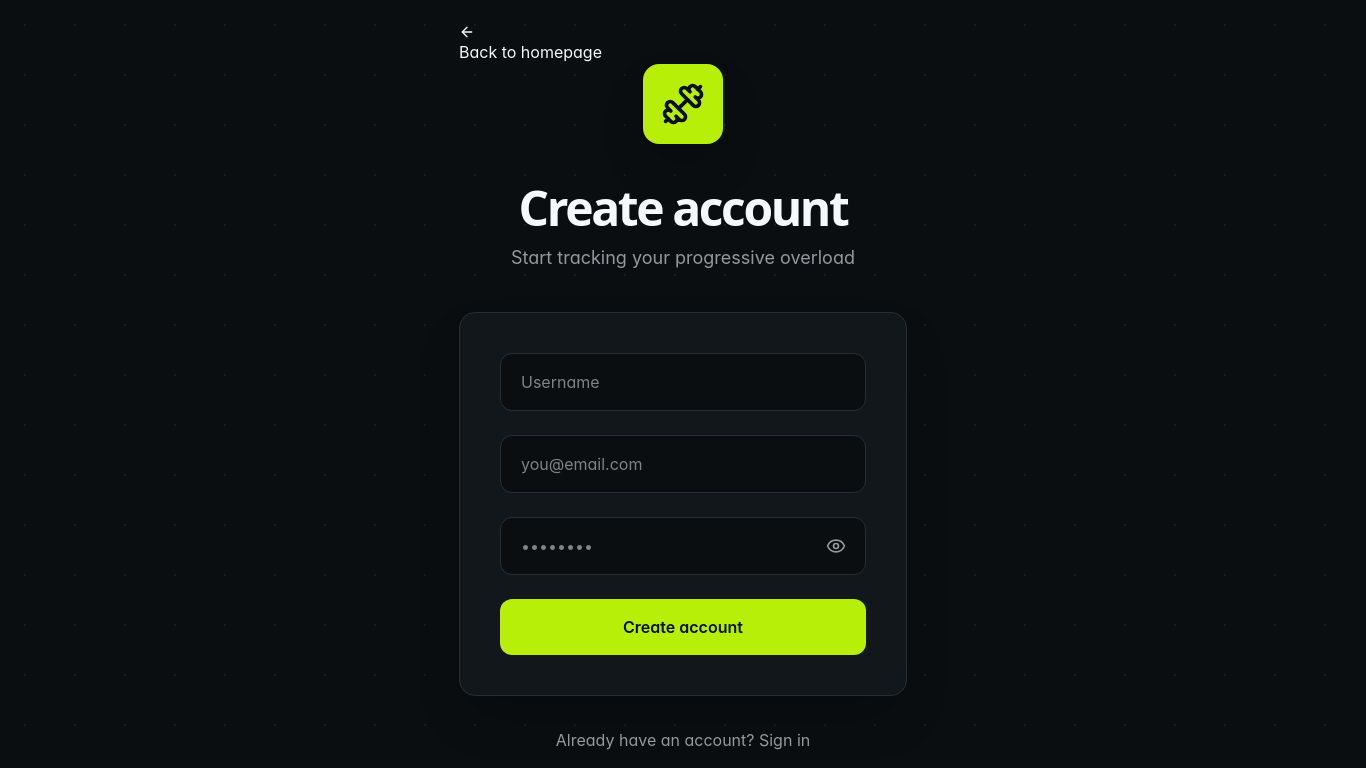
Scenario: Register Page › handles registration error
Type "john" into the field with placeholder "Username".
click(683, 382); type("john")  # box left=500, top=353, right=866, bottom=411
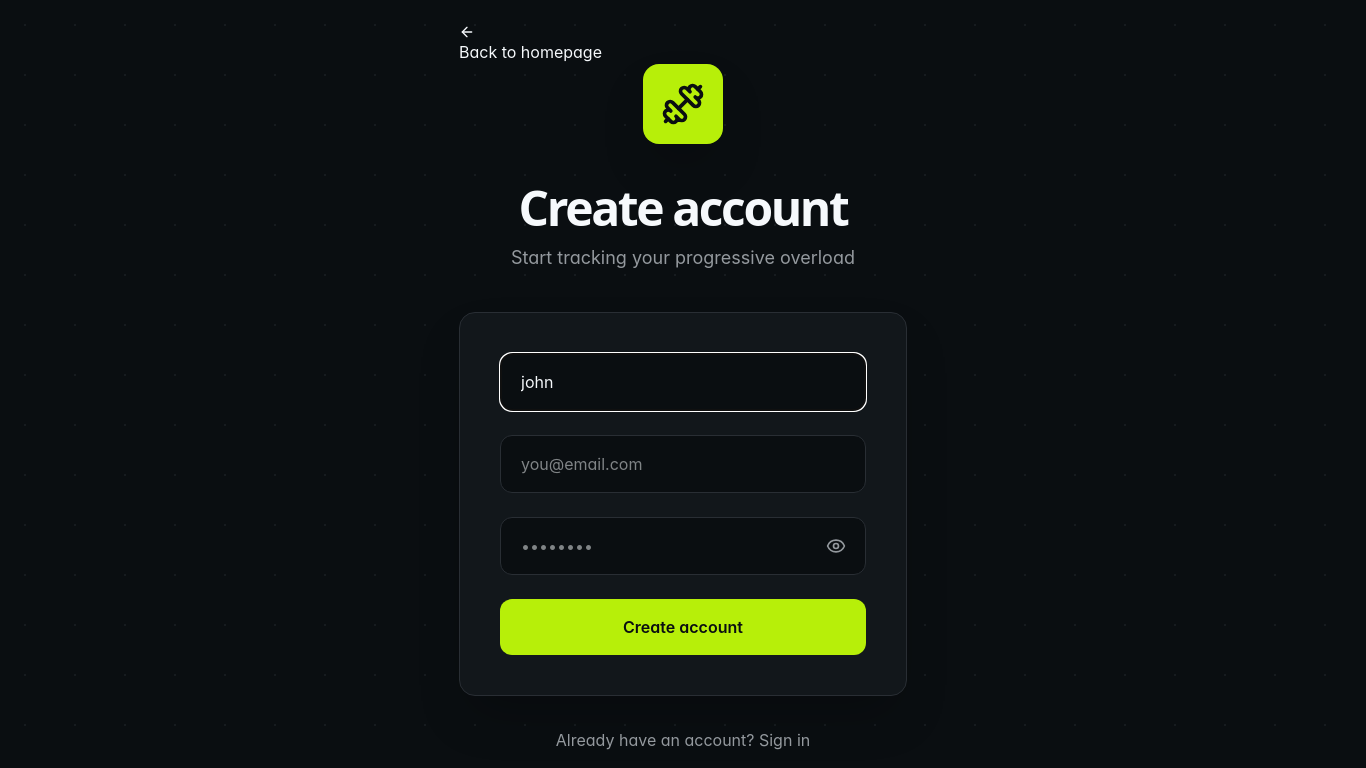
Type "john@mail.com" into the field with placeholder "you@email.com".
click(683, 464); type("john@mail.com")  # box left=500, top=435, right=866, bottom=493
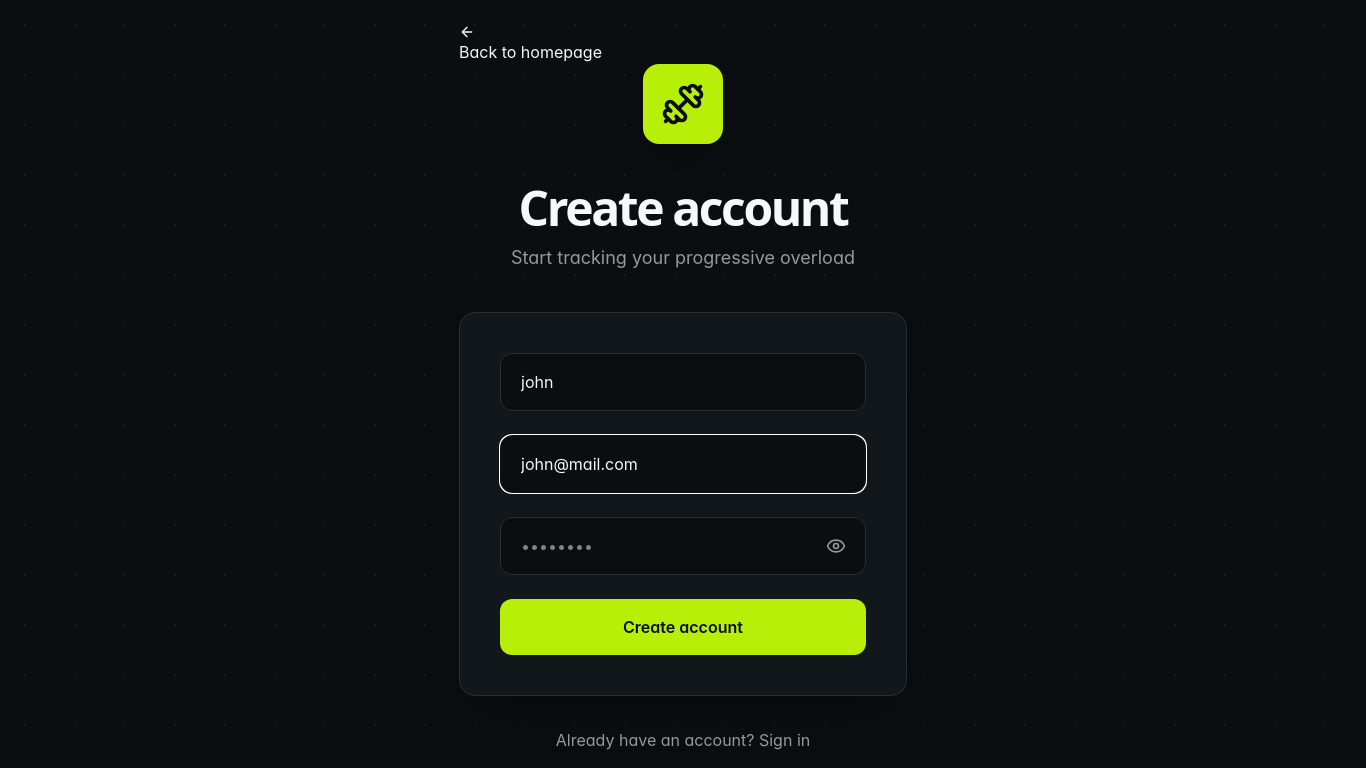
Type "password123" into the password field with placeholder "••••••••".
click(683, 546); type("password123")  # box left=500, top=517, right=866, bottom=575
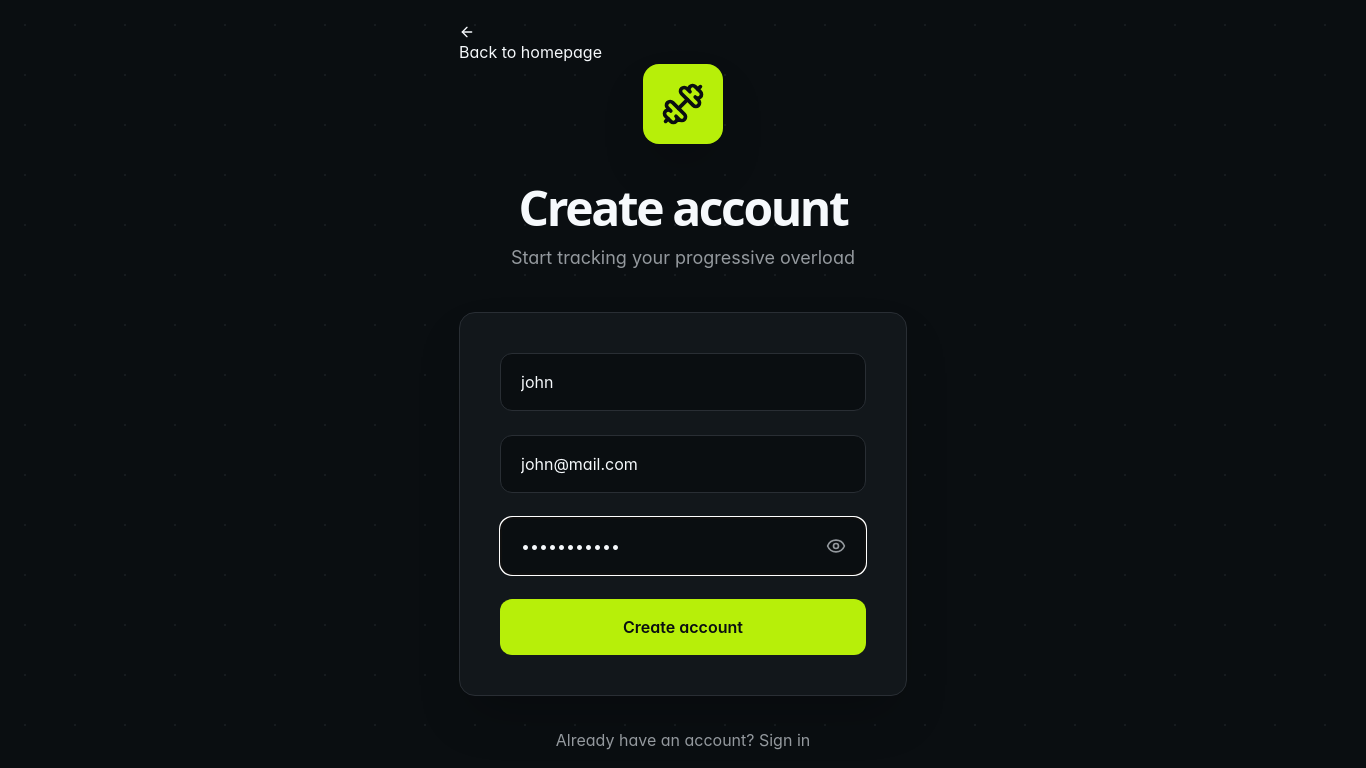
Click the button "Create account".
click(683, 627)  # box left=500, top=599, right=866, bottom=655
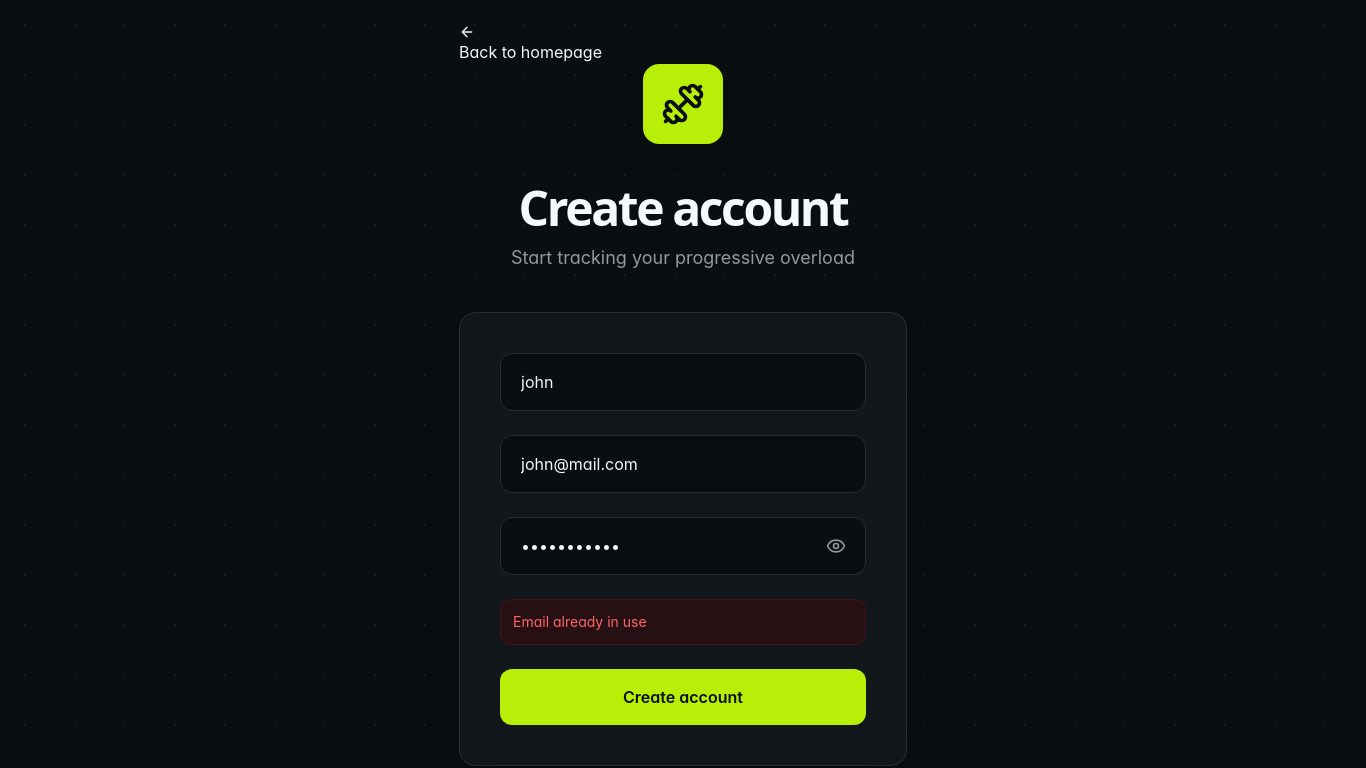
Now the text "Email already in use" is shown, box left=500, top=599, right=866, bottom=645
